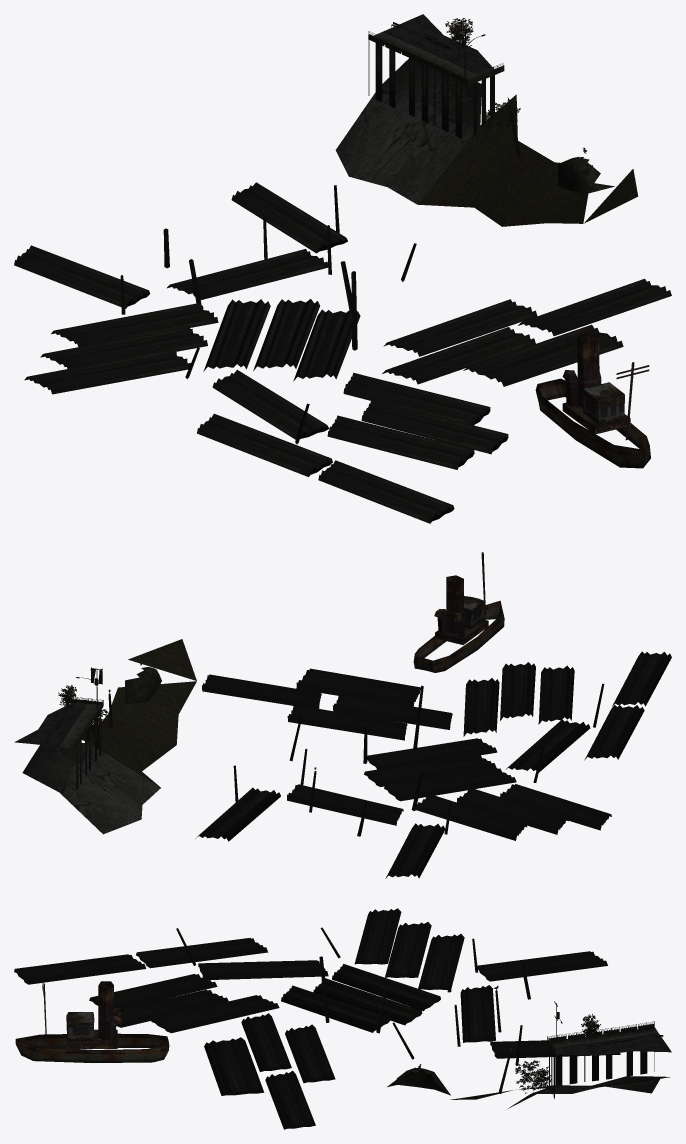
Rendered from cell_14_-2.gltf.
The picture shows the model from 3 angles, top to bottom: view 1: azimuth 30°, elevation 25°; view 2: azimuth 150°, elevation 25°; view 3: azimuth 270°, elevation 25°; orthographic projection. The views are drawn at different scales.
Visible parts, largest first — view 1: cell_14_-2; view 2: cell_14_-2; view 3: cell_14_-2.
Boxes of the visible parts, x1,y1,x2,y2 form: cell_14_-2: [14, 14, 671, 523]; cell_14_-2: [14, 552, 671, 878]; cell_14_-2: [14, 908, 671, 1129].
Size of the model in its own units: 141 by 34.53 by 170.
Materials: 18 (18 with a texture image).
